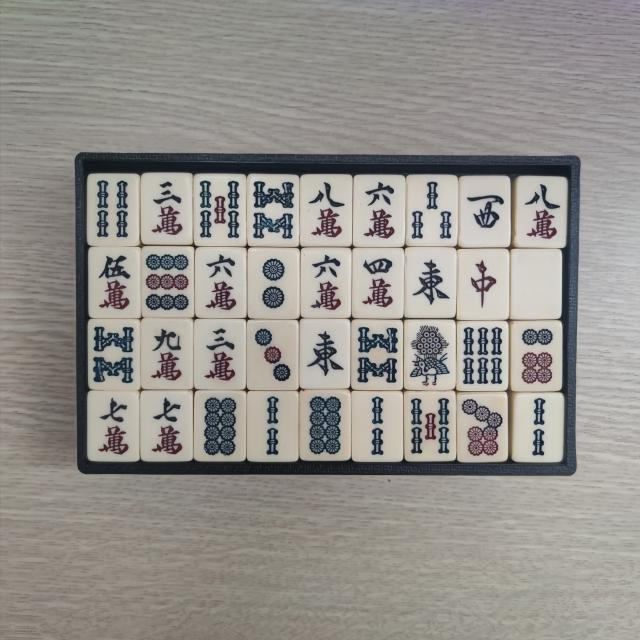hdr: (462, 252, 502, 316)
hdw: (516, 254, 558, 316)
hwe: (409, 252, 452, 314), (304, 324, 346, 384)
hww: (463, 181, 506, 244)
sb1: (408, 324, 454, 388)
sb2: (253, 395, 295, 458), (358, 395, 400, 458), (518, 396, 559, 458)
sb3: (410, 180, 454, 243)
sb4: (92, 176, 134, 242)
sb5: (198, 178, 243, 243), (408, 395, 452, 458)
sb6: (462, 326, 506, 386)
sb8: (252, 178, 298, 243), (356, 323, 402, 387), (92, 324, 136, 386)
sc3: (198, 324, 242, 386), (146, 177, 188, 240)
sc4: (356, 252, 398, 313)
sc5: (94, 252, 136, 314)
sc6: (359, 178, 402, 242), (200, 252, 242, 314), (306, 252, 346, 314)
sc7: (92, 396, 134, 459), (147, 396, 188, 459)
sc8: (304, 179, 349, 242), (518, 180, 562, 244)
sc9: (146, 324, 188, 386)
sd2: (254, 253, 296, 316)
sd3: (252, 324, 296, 386)
sd6: (516, 326, 558, 388)
sd7: (460, 396, 503, 458)
sd8: (304, 396, 344, 458), (200, 396, 240, 458)
sd9: (144, 250, 190, 314)
